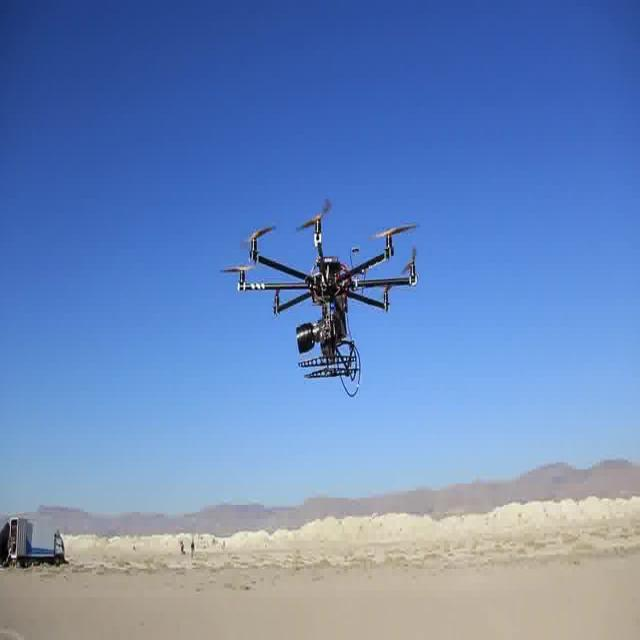drone: (218, 189, 426, 399)
